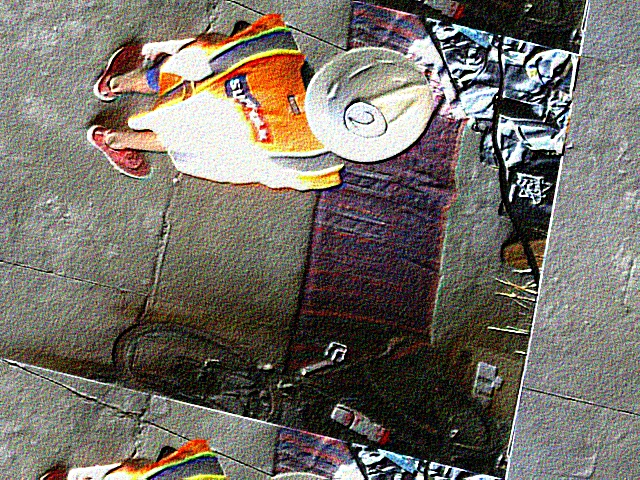two: (341, 98, 391, 144)
